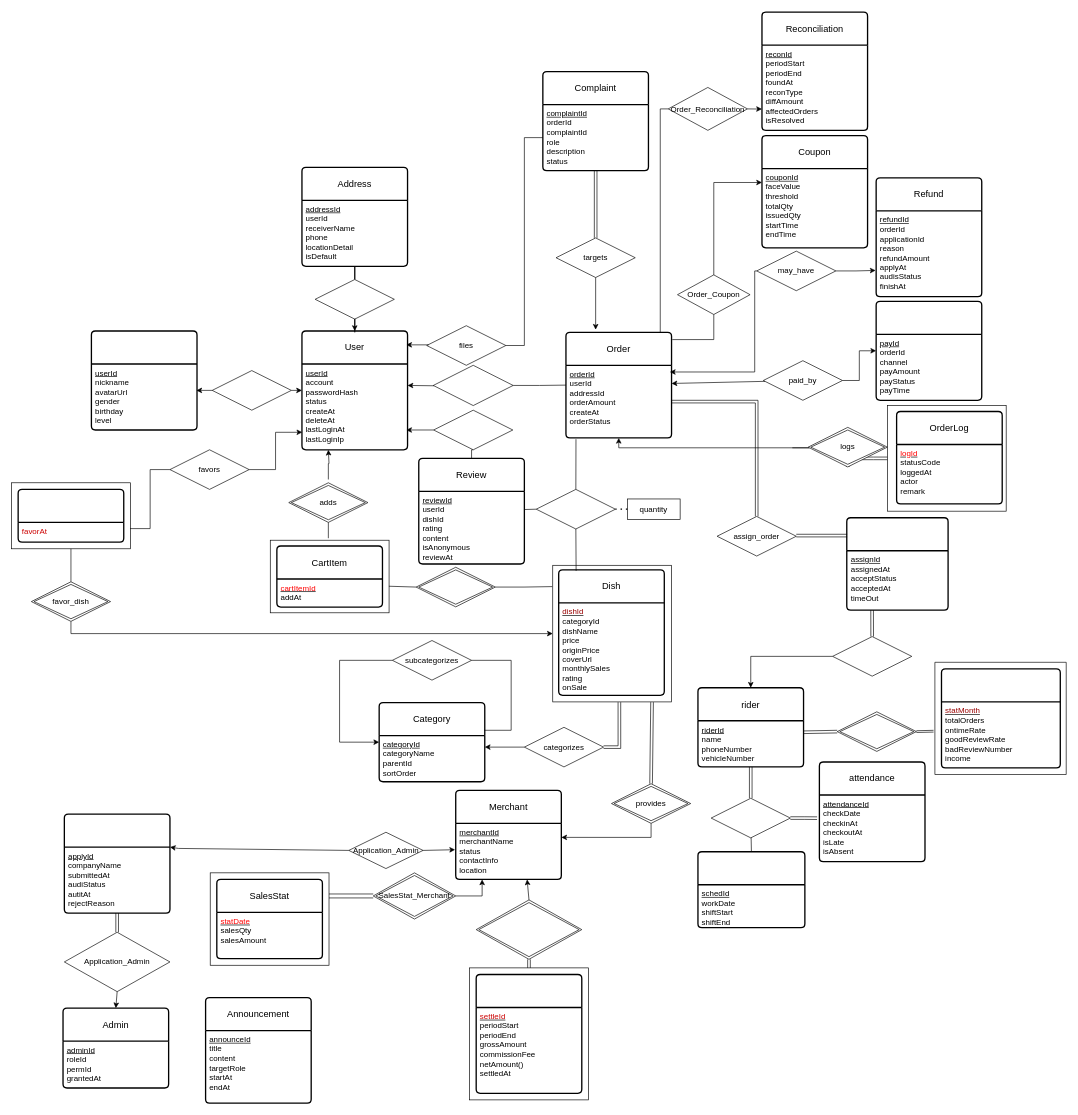
This 1078x1115 diagram has some shape labels left out. Here are the shapes that lost their labels. From the top down, the box of each, then its label:
(314, 279, 394, 319): owns
(875, 300, 982, 401): Payment
(90, 330, 197, 430): UserProfiles
(212, 370, 291, 410): has
(433, 365, 513, 406): places
(433, 410, 513, 450): writes
(17, 488, 124, 543): Favorite
(536, 489, 615, 529): order_dish_review
(846, 517, 948, 610): assignment
(415, 567, 495, 607): dish_cart
(832, 636, 912, 676): rider_assign
(837, 711, 916, 751): rider_perform
(940, 668, 1061, 768): performance
(710, 798, 790, 838): rider_sched
(63, 813, 170, 913): Application
(697, 851, 805, 928): schedule
(476, 899, 582, 959): Settlement_Merchant
(475, 974, 582, 1094): Settlement
